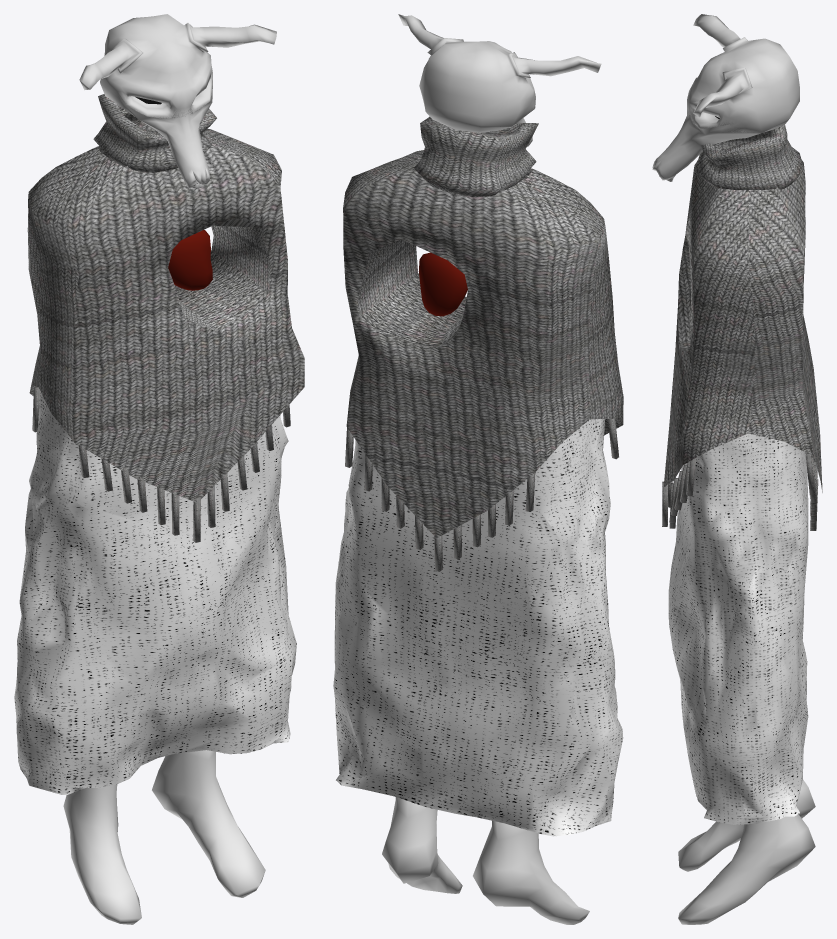
File: Enemy.fbx
3 views of the same model, side by side, from view 1: azimuth 30°, elevation 25°; view 2: azimuth 150°, elevation 25°; view 3: azimuth 270°, elevation 25° (orthographic). The views are drawn at different scales.
Visible parts, largest first — view 1: sweater.001, sweater_L.001, feet.001, skull.001, heart.001; view 2: sweater_L.001, sweater.001, feet.001, skull.001, heart.001; view 3: sweater_L.001, sweater.001, skull.001, feet.001.
Part boxes in pixels (bbox=[...]): sweater.001: bbox=[27, 94, 304, 542]; sweater_L.001: bbox=[14, 392, 296, 794]; feet.001: bbox=[63, 750, 265, 924]; skull.001: bbox=[79, 14, 276, 188]; heart.001: bbox=[168, 230, 212, 290]; sweater_L.001: bbox=[333, 419, 623, 836]; sweater.001: bbox=[343, 116, 623, 571]; feet.001: bbox=[382, 797, 589, 924]; skull.001: bbox=[398, 14, 601, 146]; heart.001: bbox=[418, 252, 467, 316]; sweater_L.001: bbox=[668, 433, 808, 824]; sweater.001: bbox=[662, 124, 822, 530]; skull.001: bbox=[652, 14, 799, 181]; feet.001: bbox=[678, 779, 815, 924].
Size of the model in its own units: 68.85 by 209 by 38.02.
